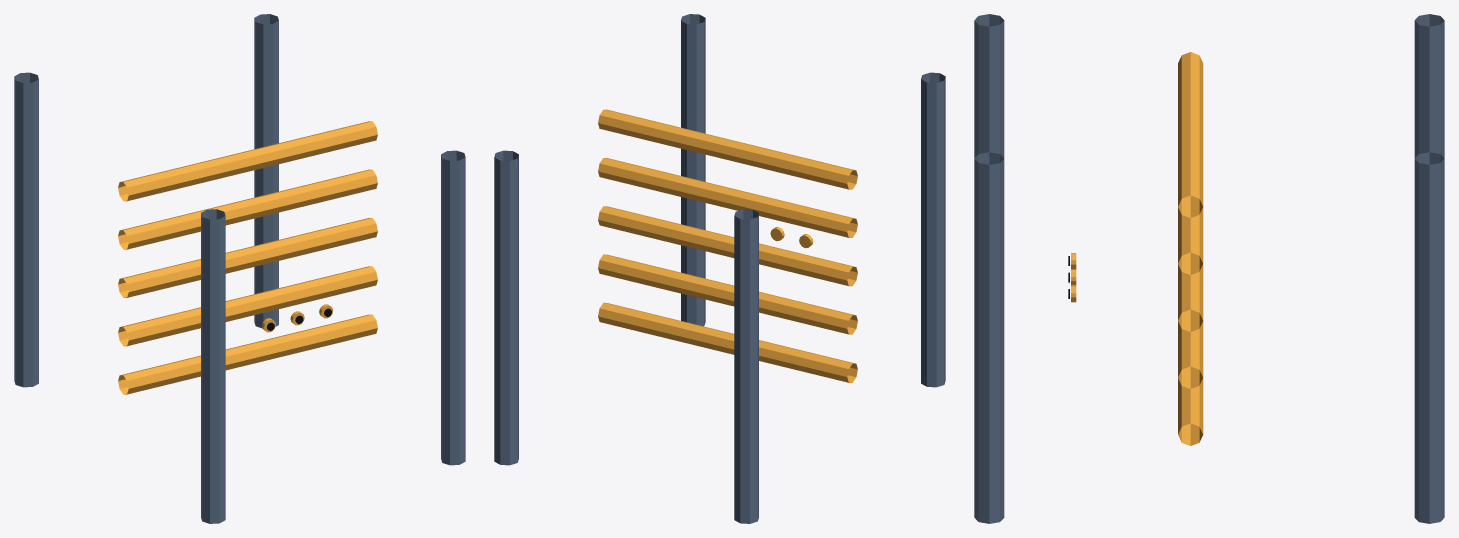
Rendered from 26_L90_Aurora1PropellantTankSupportFrame.fbx.
3 renders of one model, left to right at view 1: azimuth 30°, elevation 25°; view 2: azimuth 150°, elevation 25°; view 3: azimuth 270°, elevation 25°, orthographic. The views are drawn at different scales.
Parts seen in each view (by area): view 1: L90_Aurora1PropellantTankSupportFrame; view 2: L90_Aurora1PropellantTankSupportFrame; view 3: L90_Aurora1PropellantTankSupportFrame.
Part boxes in pixels (x1,y1,x2,y2): L90_Aurora1PropellantTankSupportFrame: [14, 14, 465, 523]; L90_Aurora1PropellantTankSupportFrame: [494, 14, 945, 523]; L90_Aurora1PropellantTankSupportFrame: [974, 14, 1444, 523].
Bounding box in the file's own units: 284 × 315 × 374.
